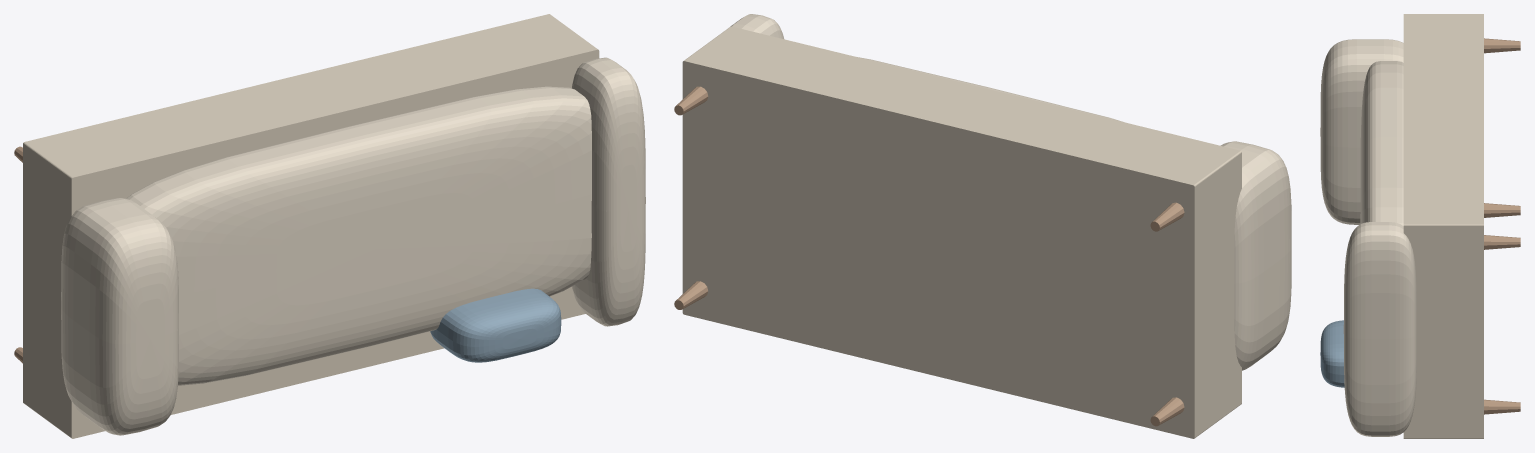
Rendered from chaise_longue.glb.
3 views of the same model, side by side, from view 1: azimuth 30°, elevation 25°; view 2: azimuth 150°, elevation 25°; view 3: azimuth 270°, elevation 25° (orthographic). The views are drawn at different scales.
Visible parts, largest first — view 1: seat_cushion, frame, back_cushion, arm, throw_pillow; view 2: frame, back_cushion, arm; view 3: frame, arm, back_cushion, seat_cushion, throw_pillow, leg, leg_3, leg_1, leg_2.
Boxes of the visible parts, x1,y1,x2,y2 form: seat_cushion: [126, 86, 591, 385]; frame: [23, 14, 599, 438]; back_cushion: [61, 198, 178, 435]; arm: [572, 57, 645, 326]; throw_pillow: [430, 288, 561, 362]; frame: [682, 26, 1241, 438]; back_cushion: [1220, 141, 1291, 370]; arm: [730, 14, 783, 38]; frame: [1403, 14, 1483, 438]; arm: [1343, 222, 1416, 436]; back_cushion: [1320, 39, 1403, 224]; seat_cushion: [1360, 61, 1403, 225]; throw_pillow: [1320, 320, 1344, 387]; leg: [1484, 203, 1520, 217]; leg_3: [1484, 235, 1520, 249]; leg_1: [1484, 38, 1520, 53]; leg_2: [1484, 399, 1520, 414].
Bounding box in the file's own units: 1.58 × 0.71 × 0.6.
